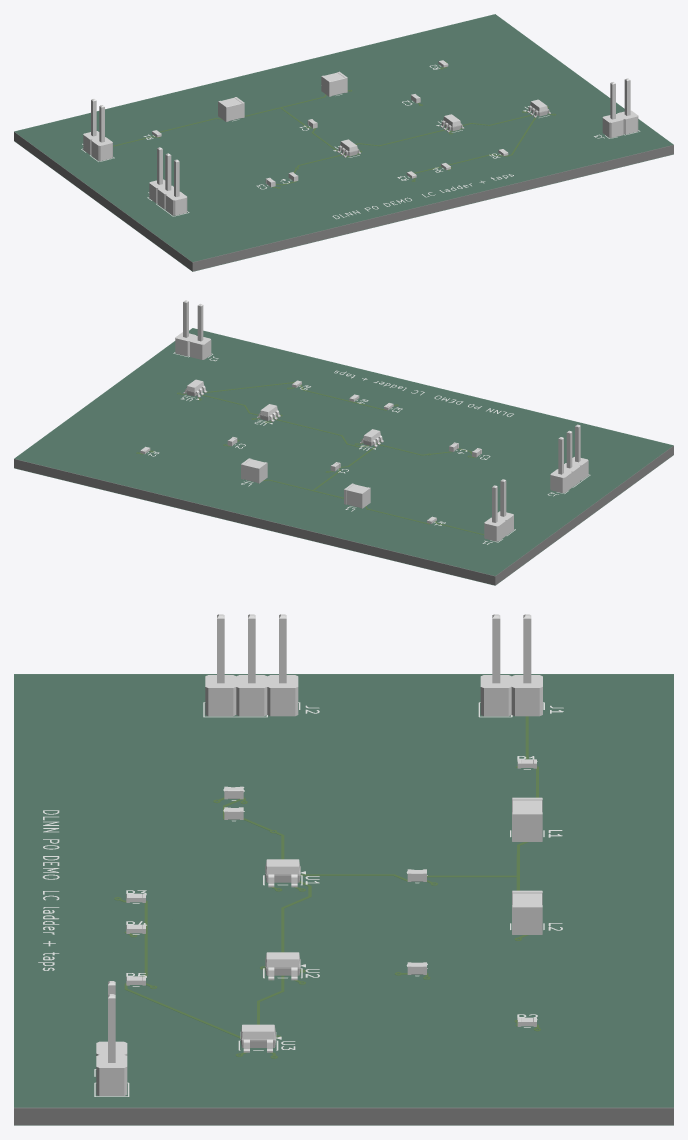
The model's file is demo.glb.
The picture shows the model from 3 angles, top to bottom: view 1: azimuth 30°, elevation 25°; view 2: azimuth 150°, elevation 25°; view 3: azimuth 270°, elevation 25°; orthographic projection. The views are drawn at different scales.
Parts seen in each view (by area): view 1: =>[0:1:1:13], =>[0:1:1:11], J2, J3, J1, =>[0:1:1:10], =>[0:1:1:12], L2, L1; view 2: =>[0:1:1:13], =>[0:1:1:11], J2, J3, J1, =>[0:1:1:10], =>[0:1:1:12], L1, L2; view 3: =>[0:1:1:13], =>[0:1:1:11], J2, J1, =>[0:1:1:10], J3, =>[0:1:1:8], L1, L2, U3, U2, U1.
Part boxes in pixels (<box>): =>[0:1:1:13]: <box>14,15,673,271</box>; =>[0:1:1:11]: <box>14,14,673,261</box>; J2: <box>149,147,187,215</box>; J3: <box>602,78,638,137</box>; J1: <box>83,99,112,160</box>; =>[0:1:1:10]: <box>81,64,640,219</box>; =>[0:1:1:12]: <box>14,141,673,271</box>; L2: <box>321,71,347,96</box>; L1: <box>218,97,244,121</box>; =>[0:1:1:13]: <box>14,329,673,585</box>; =>[0:1:1:11]: <box>14,328,673,575</box>; J2: <box>550,424,588,492</box>; J3: <box>175,300,211,359</box>; J1: <box>484,479,513,541</box>; =>[0:1:1:10]: <box>147,352,590,544</box>; =>[0:1:1:12]: <box>14,455,673,585</box>; L1: <box>344,483,370,508</box>; L2: <box>241,458,267,483</box>; =>[0:1:1:13]: <box>14,675,673,1125</box>; =>[0:1:1:11]: <box>14,674,673,1107</box>; J2: <box>205,614,298,716</box>; J1: <box>480,614,542,716</box>; =>[0:1:1:10]: <box>38,702,563,1096</box>; J3: <box>96,981,127,1095</box>; =>[0:1:1:8]: <box>115,717,540,1058</box>; L1: <box>512,797,542,841</box>; L2: <box>512,890,542,934</box>; U3: <box>240,1024,276,1052</box>; U2: <box>265,952,300,980</box>; U1: <box>265,859,300,887</box>.
Bounding box in the file's own units: 0.084 × 0.0115 × 0.054.
